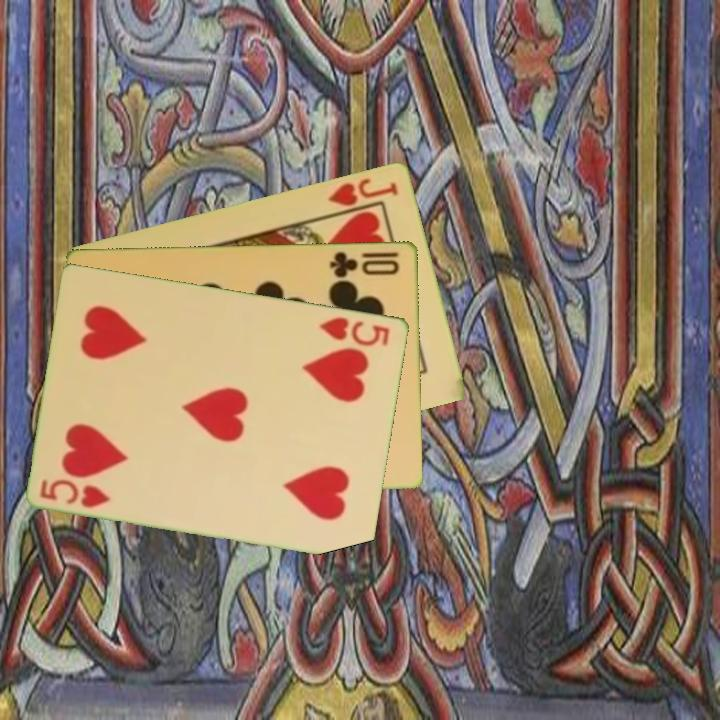10c: (326, 247, 403, 280)
5h: (316, 313, 393, 349), (37, 475, 114, 511)
Jh: (323, 174, 402, 219)
